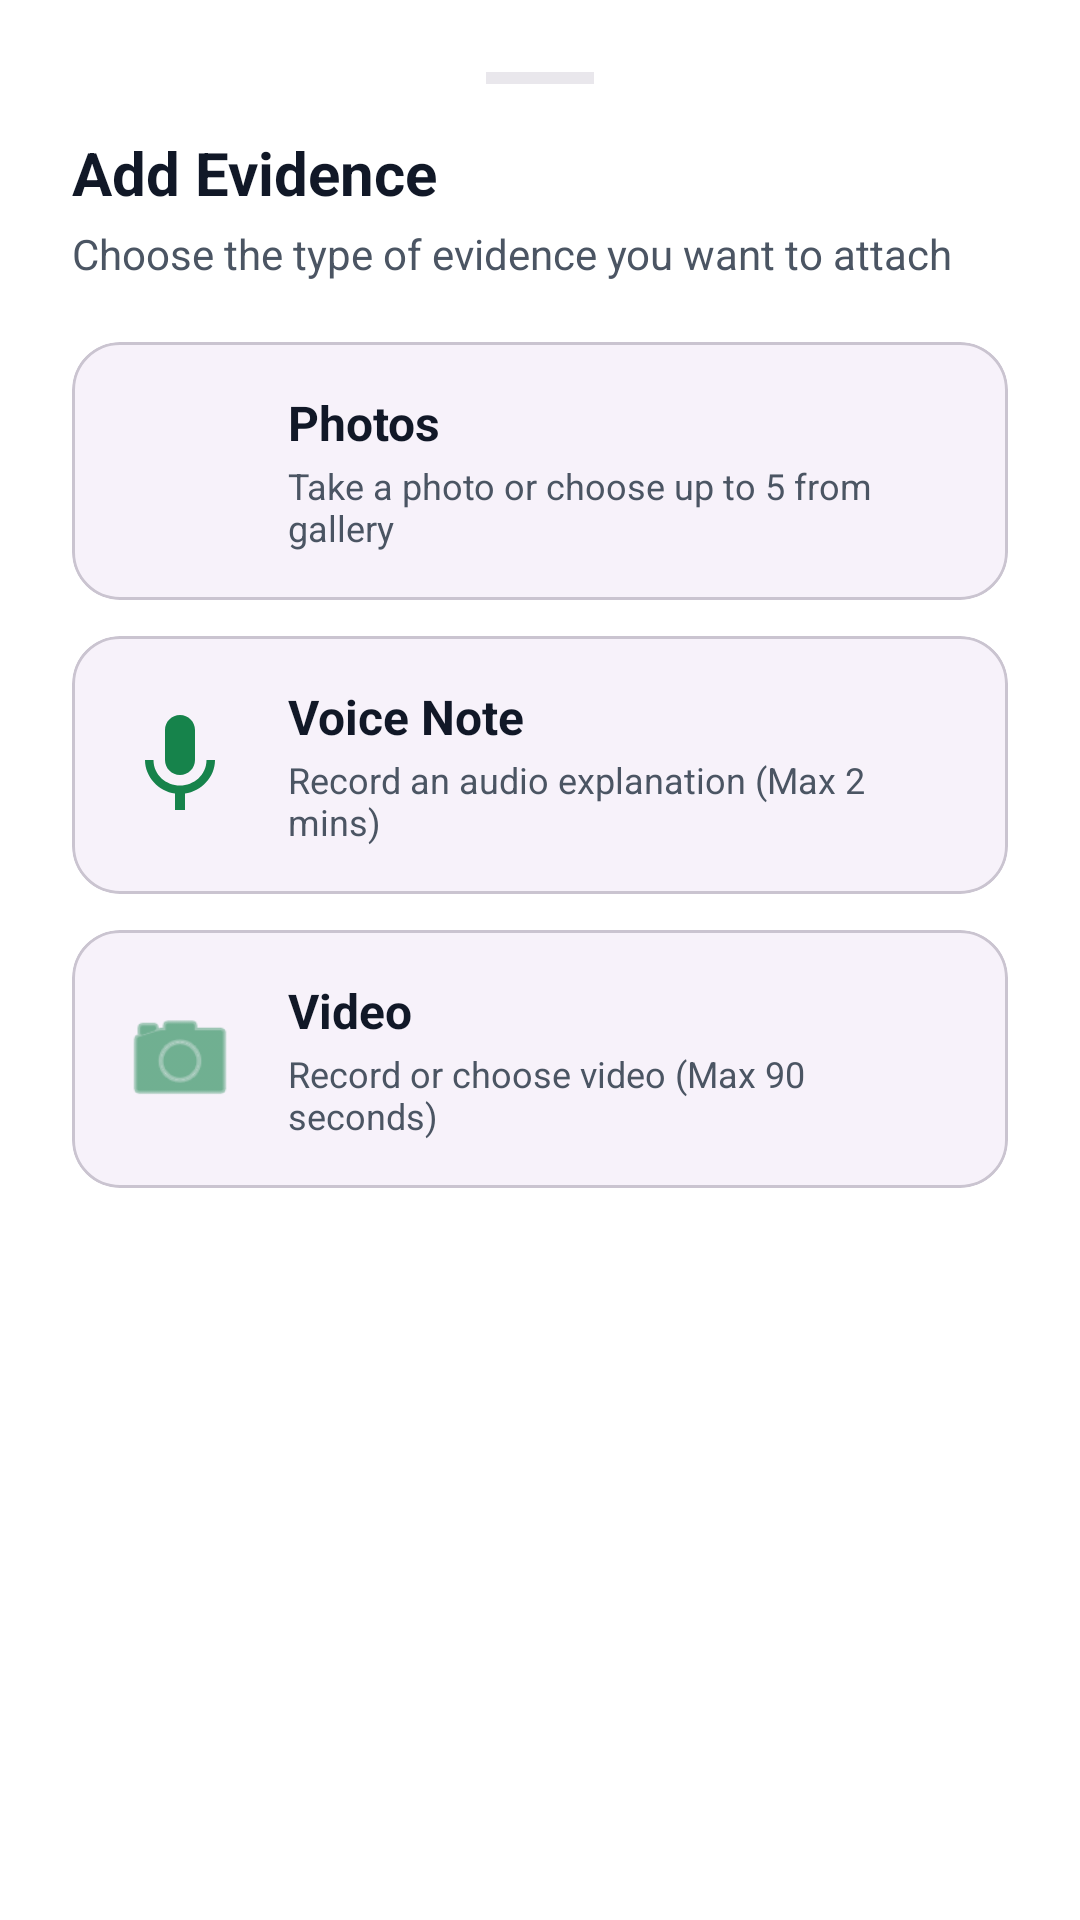

Icons on this 1080px×1920px Android screen, each with the point to tap as (x=x, y=y):
camera: (x=180, y=1057)
mic: (x=180, y=762)
